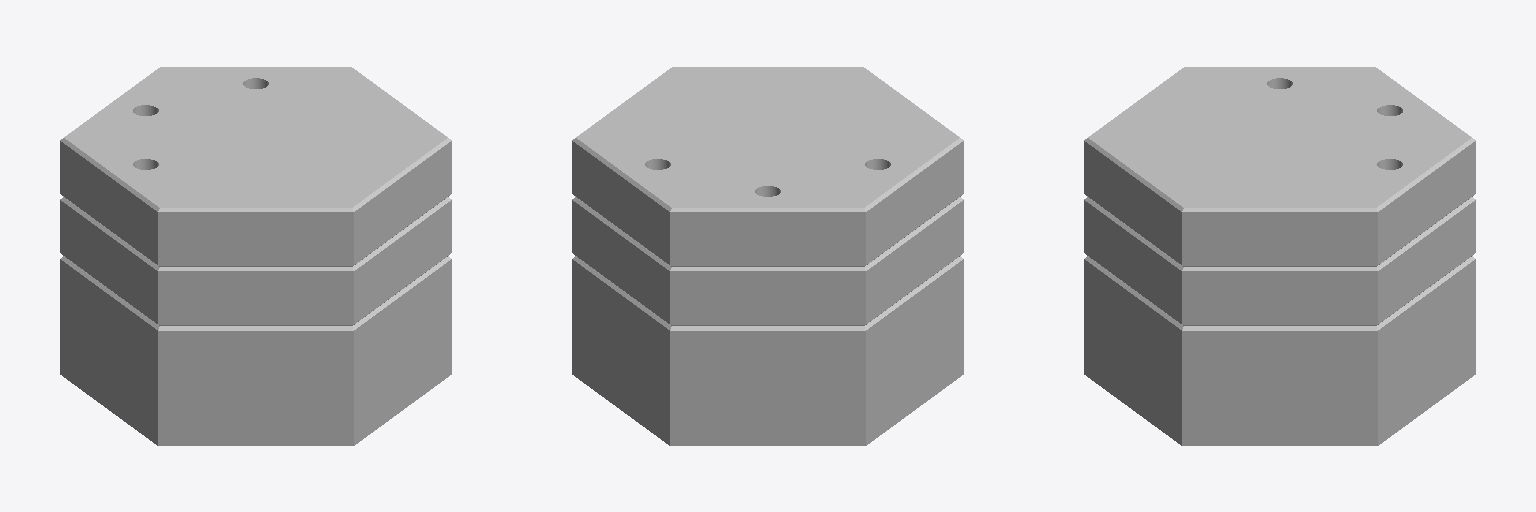
Rendered from lvl3A.obj.
3 views of the same model, side by side, from view 1: azimuth 30°, elevation 25°; view 2: azimuth 150°, elevation 25°; view 3: azimuth 270°, elevation 25° (orthographic).
Visible parts, largest first — view 1: Lvl3A-3_(Mono-NoMags); view 2: Lvl3A-3_(Mono-NoMags); view 3: Lvl3A-3_(Mono-NoMags).
Part boxes in pixels (bbox=[...]): Lvl3A-3_(Mono-NoMags): bbox=[60, 67, 451, 445]; Lvl3A-3_(Mono-NoMags): bbox=[572, 67, 963, 445]; Lvl3A-3_(Mono-NoMags): bbox=[1084, 67, 1475, 445].
Bounding box in the file's own units: 3.13 × 2.41 × 3.62.